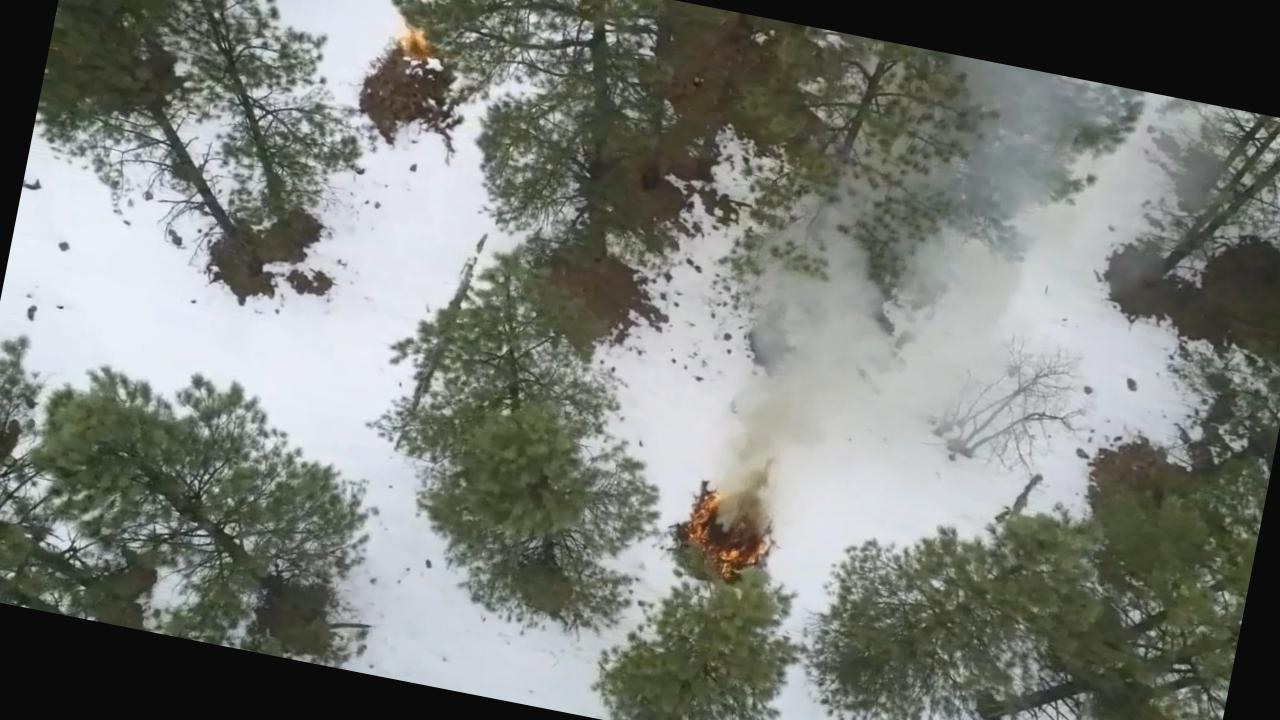fire: (674, 469, 786, 586)
smoke: (720, 183, 930, 379), (922, 54, 1094, 238)
